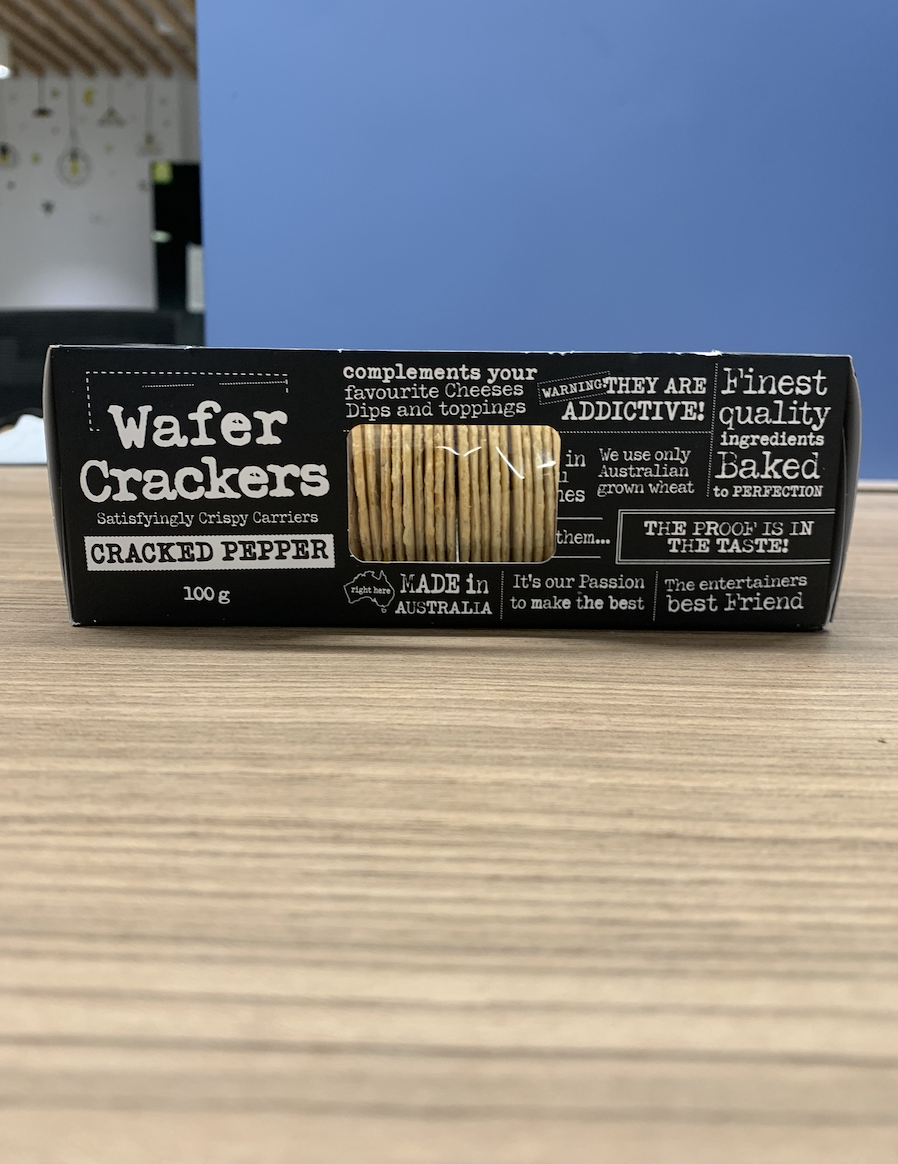crackers_150g: (68, 357, 833, 619)
